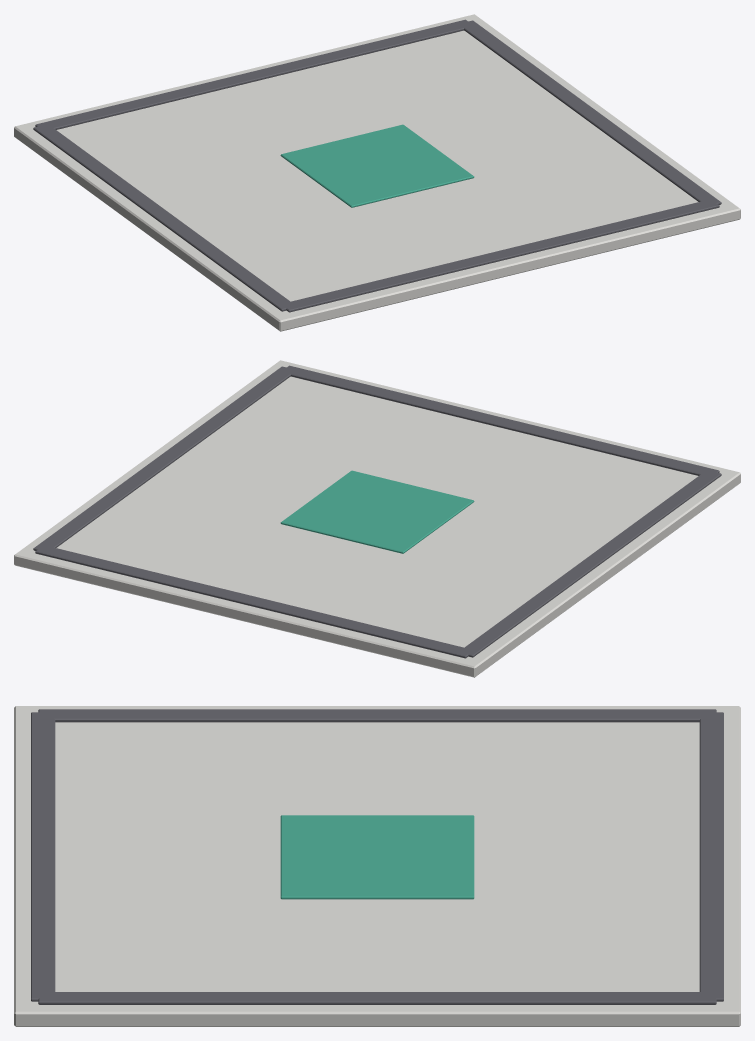
Rendered from petrol-station-and-forecourt-shop-shop-floor-tile-0496b275__33965.glb.
3 renders of one model, top to bottom at view 1: azimuth 30°, elevation 25°; view 2: azimuth 150°, elevation 25°; view 3: azimuth 270°, elevation 25°, orthographic. The views are drawn at different scales.
Visible parts, largest first — view 1: shop-floor-tile; view 2: shop-floor-tile; view 3: shop-floor-tile.
Part boxes in pixels (x1,y1,x2,y2): shop-floor-tile: (14, 14, 740, 331); shop-floor-tile: (14, 360, 740, 677); shop-floor-tile: (14, 706, 740, 1026).
Size of the model in its own units: 1.5 by 0.043 by 1.5.
